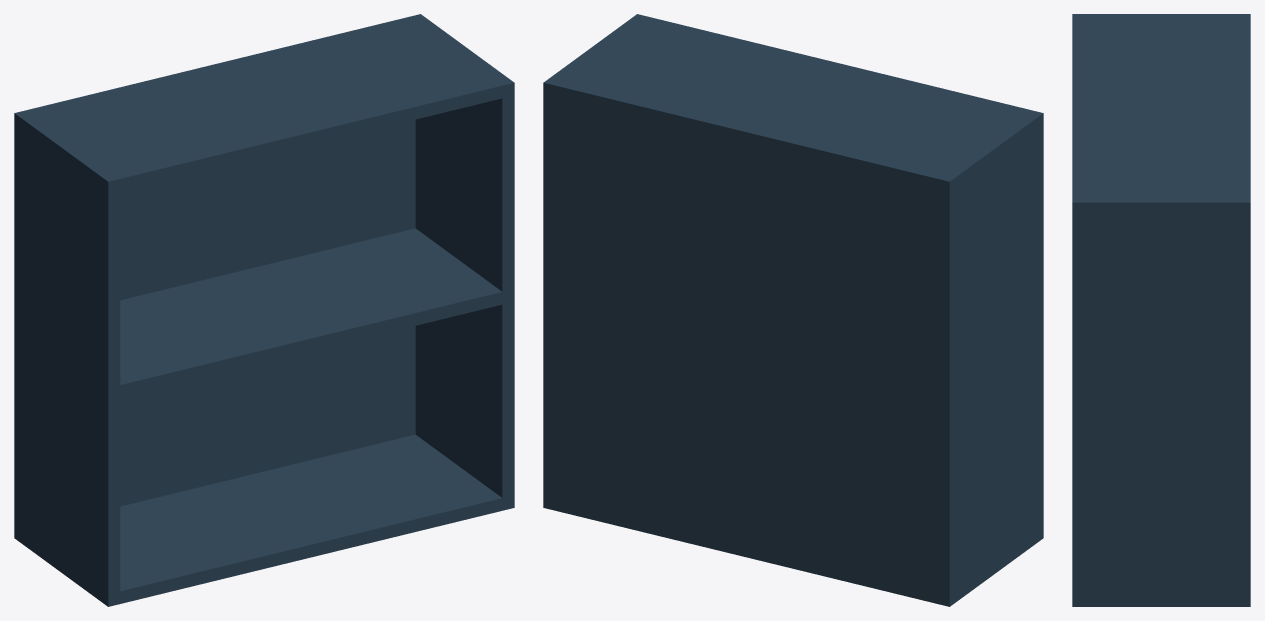
3 renders of one model, left to right at view 1: azimuth 30°, elevation 25°; view 2: azimuth 150°, elevation 25°; view 3: azimuth 270°, elevation 25°, orthographic. The views are drawn at different scales.
Size of the model in its own units: 1 by 1 by 0.4.
